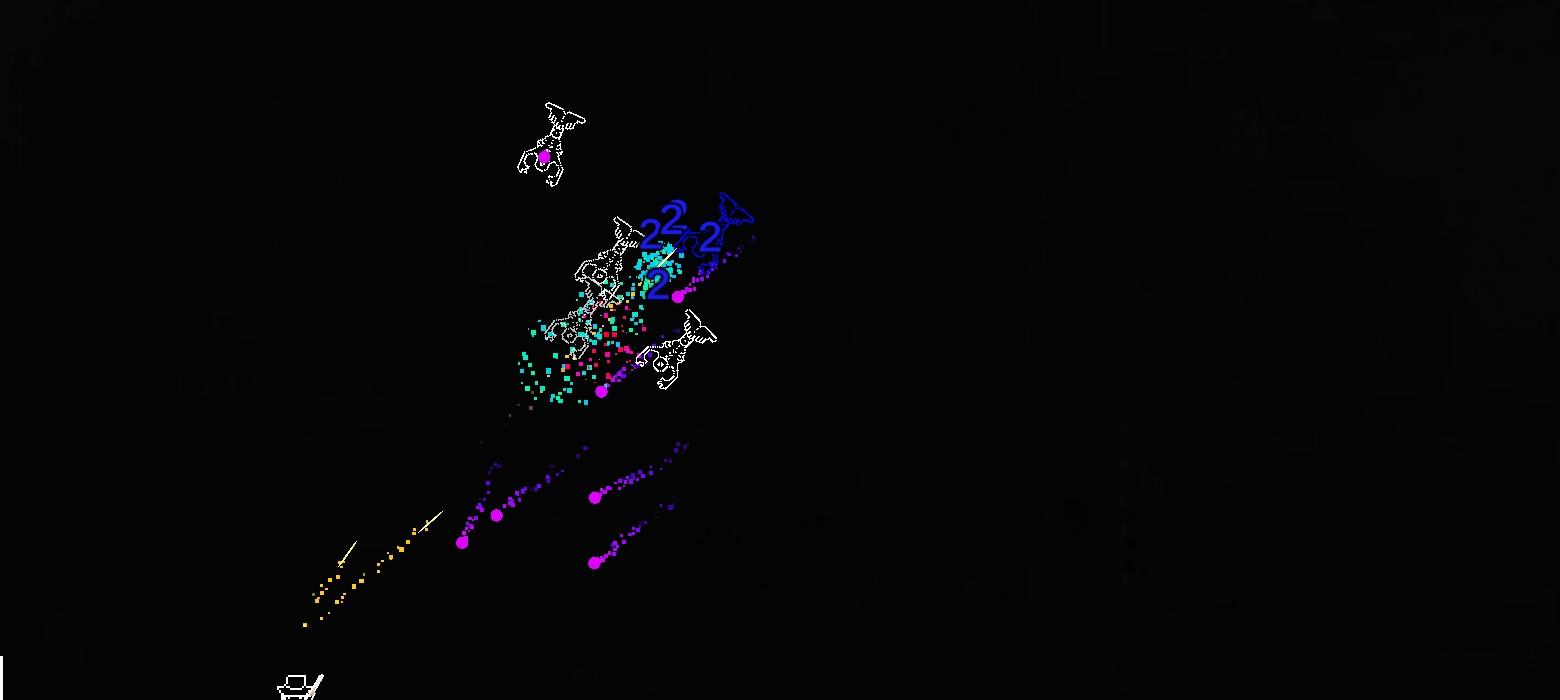enemy: (635, 308, 718, 390), (574, 216, 652, 301), (675, 192, 754, 275), (544, 277, 620, 359), (517, 102, 586, 188)
